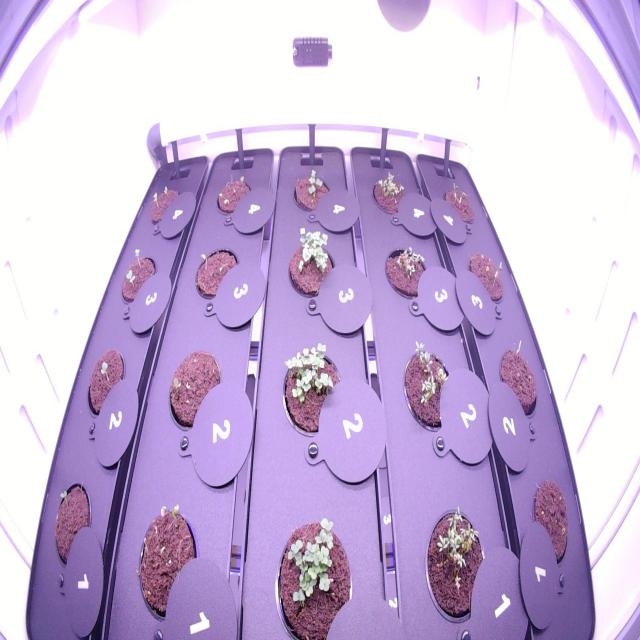germination: (270, 506, 358, 636), (129, 493, 205, 632), (421, 498, 492, 631), (276, 334, 351, 452), (398, 334, 463, 446), (162, 344, 232, 444), (46, 470, 96, 578), (281, 223, 343, 310), (492, 331, 544, 428), (378, 238, 442, 306), (82, 338, 130, 422), (191, 238, 245, 310), (462, 243, 509, 314), (368, 162, 418, 225), (116, 243, 160, 312), (288, 163, 338, 221), (435, 175, 479, 237), (209, 165, 256, 222), (142, 178, 186, 234)
pod: (524, 472, 572, 578)
